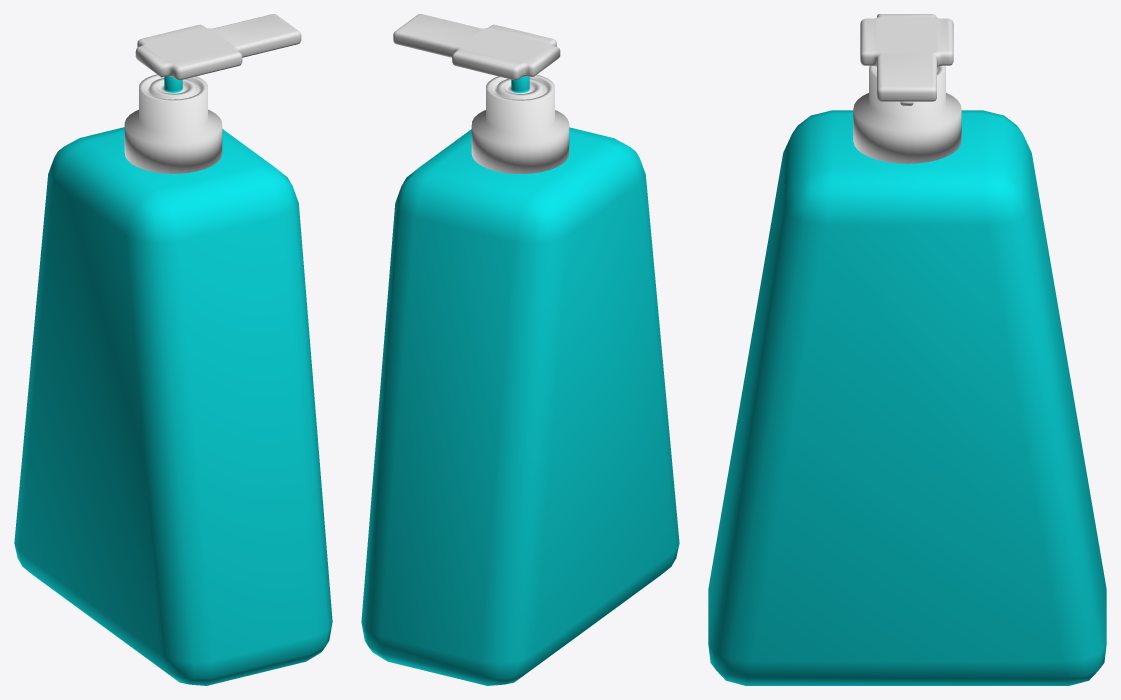
3 renders of one model, left to right at view 1: azimuth 30°, elevation 25°; view 2: azimuth 150°, elevation 25°; view 3: azimuth 270°, elevation 25°, orthographic. The views are drawn at different scales.
Parts seen in each view (by area): view 1: Cube; view 2: Cube; view 3: Cube.
Boxes of the visible parts, left/top/right/bottom form: Cube: left=14, top=14, right=332, bottom=685; Cube: left=361, top=14, right=679, bottom=685; Cube: left=708, top=14, right=1106, bottom=685.
Bounding box in the file's own units: 1.24 × 3.37 × 1.94.
